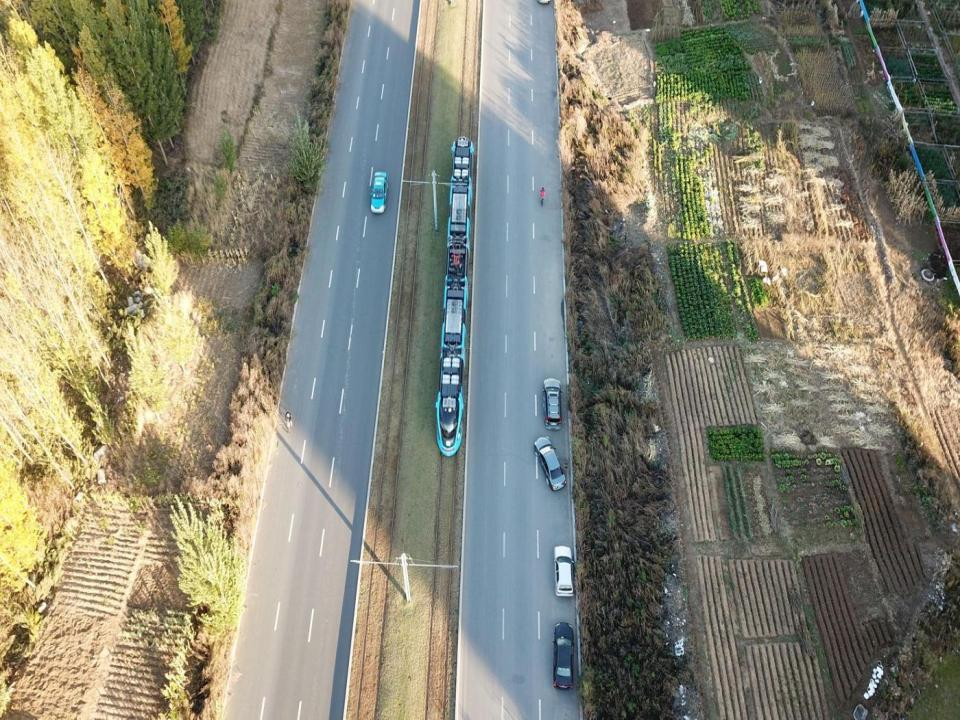car: (534, 436, 564, 493), (553, 619, 575, 690), (554, 544, 574, 596), (542, 378, 560, 432), (369, 172, 388, 213)
